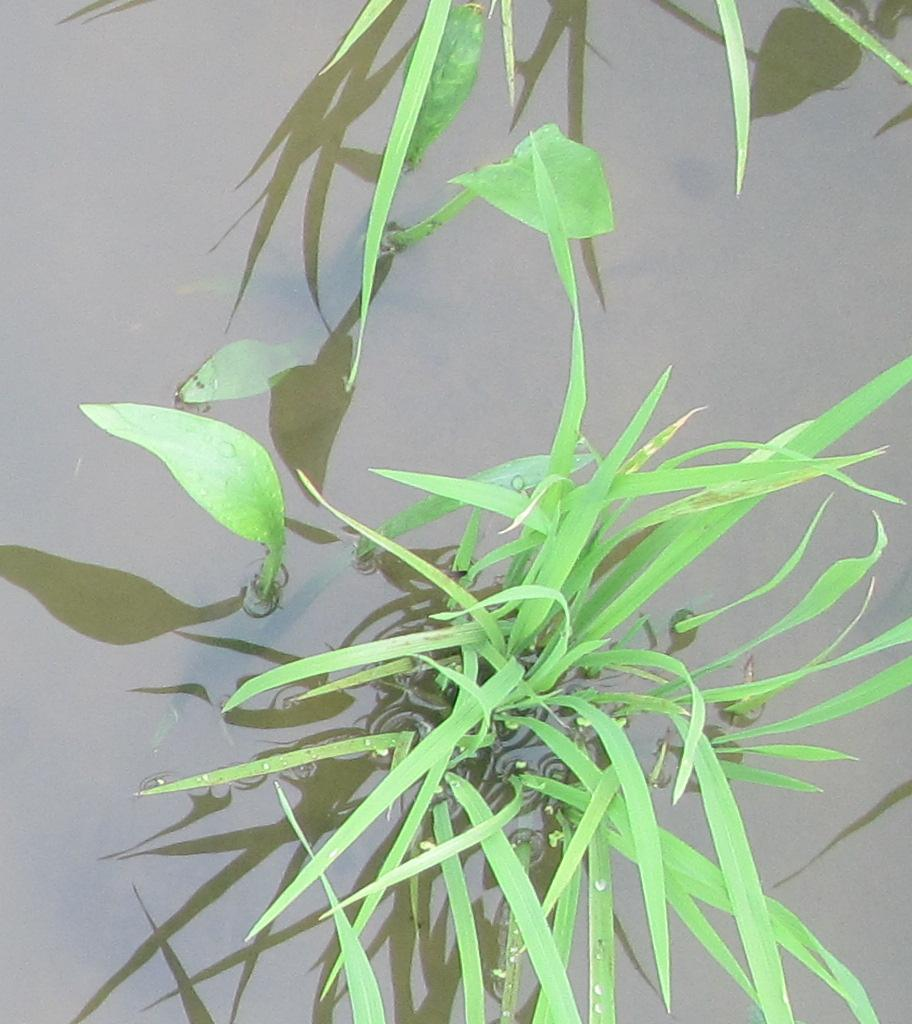Weed: (81, 403, 296, 561), (450, 127, 628, 244)
